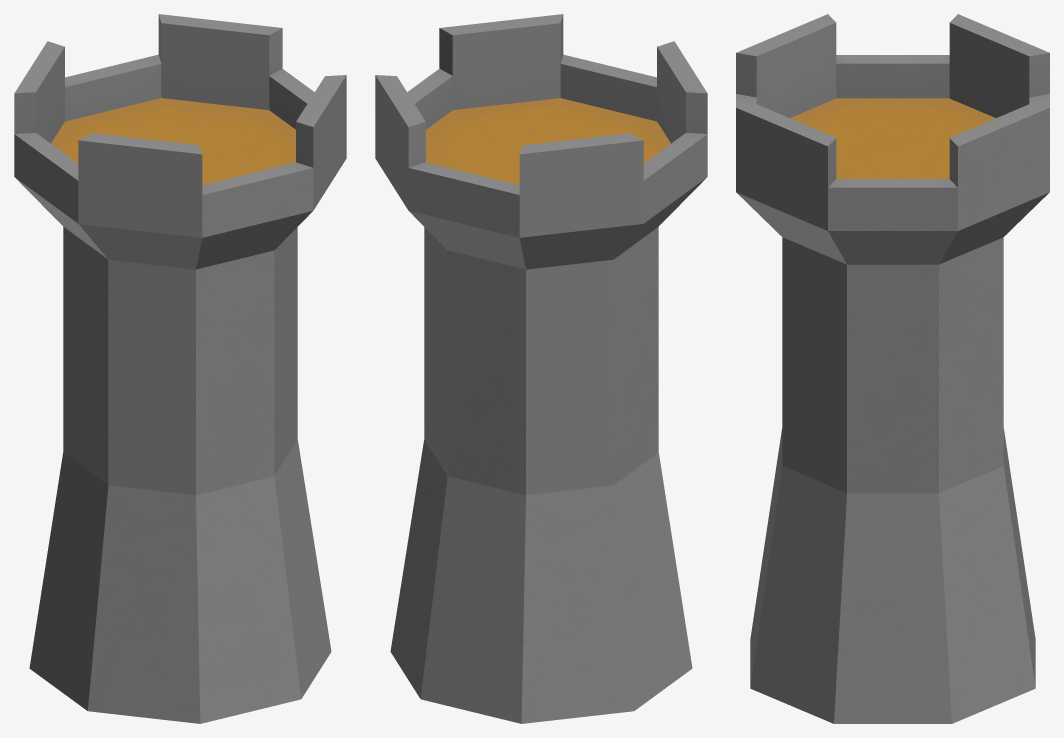
Rendered from Castle Tower Export.obj.
The picture shows the model from 3 angles, left to right: view 1: azimuth 30°, elevation 25°; view 2: azimuth 150°, elevation 25°; view 3: azimuth 270°, elevation 25°; orthographic projection.
Parts seen in each view (by area): view 1: Corner_Tower_UV; view 2: Corner_Tower_UV; view 3: Corner_Tower_UV.
Part boxes in pixels (<box>): Corner_Tower_UV: <box>14,14,346,723</box>; Corner_Tower_UV: <box>375,14,707,723</box>; Corner_Tower_UV: <box>736,14,1049,723</box>.
Bounding box in the file's own units: 2.62 × 5.37 × 2.62.
